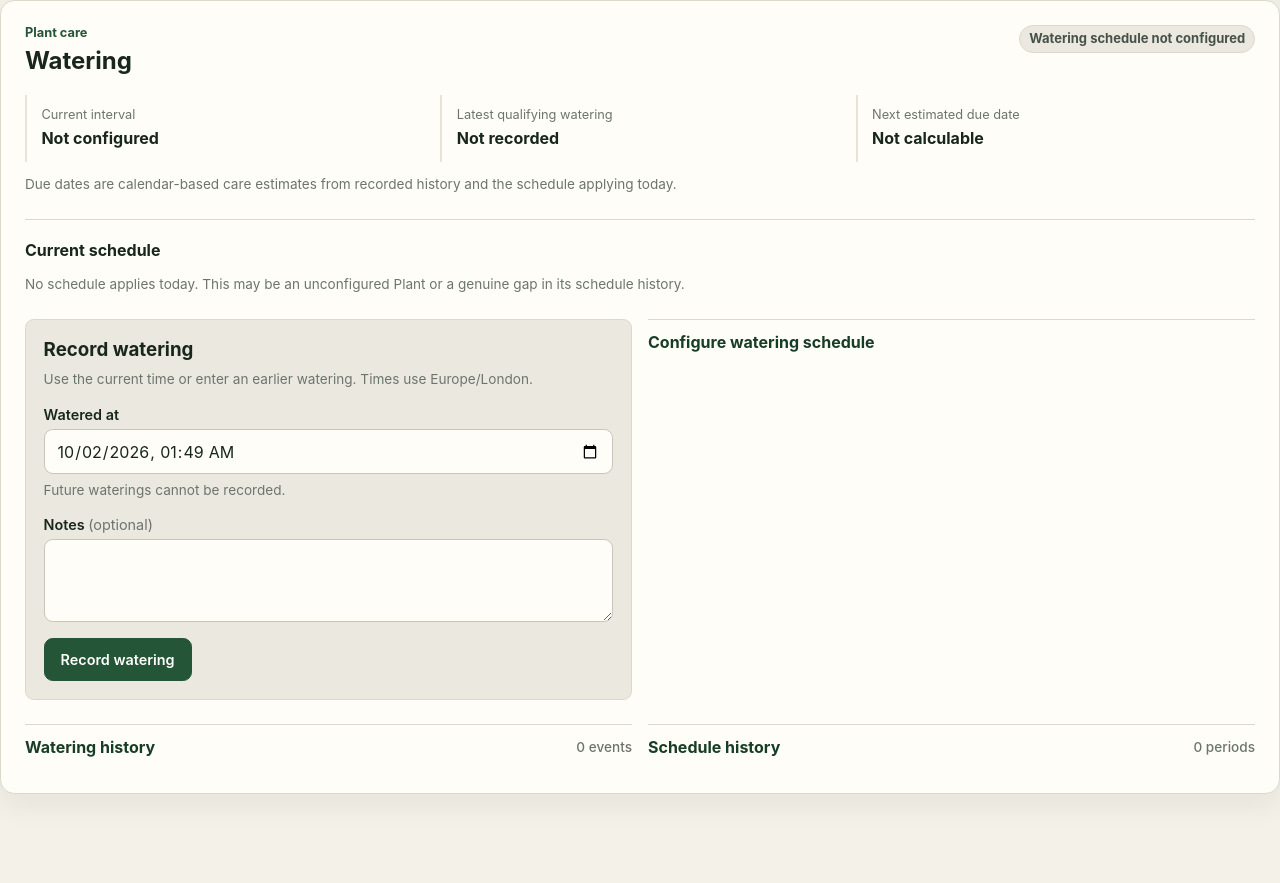
Scenario: lifecycle GROWING archived=null controls=true
Check: the button "Record watering" is shown, box [44, 638, 192, 681]
Click the heading "Configure watering schedule" at point(761, 342), box [648, 332, 875, 352]
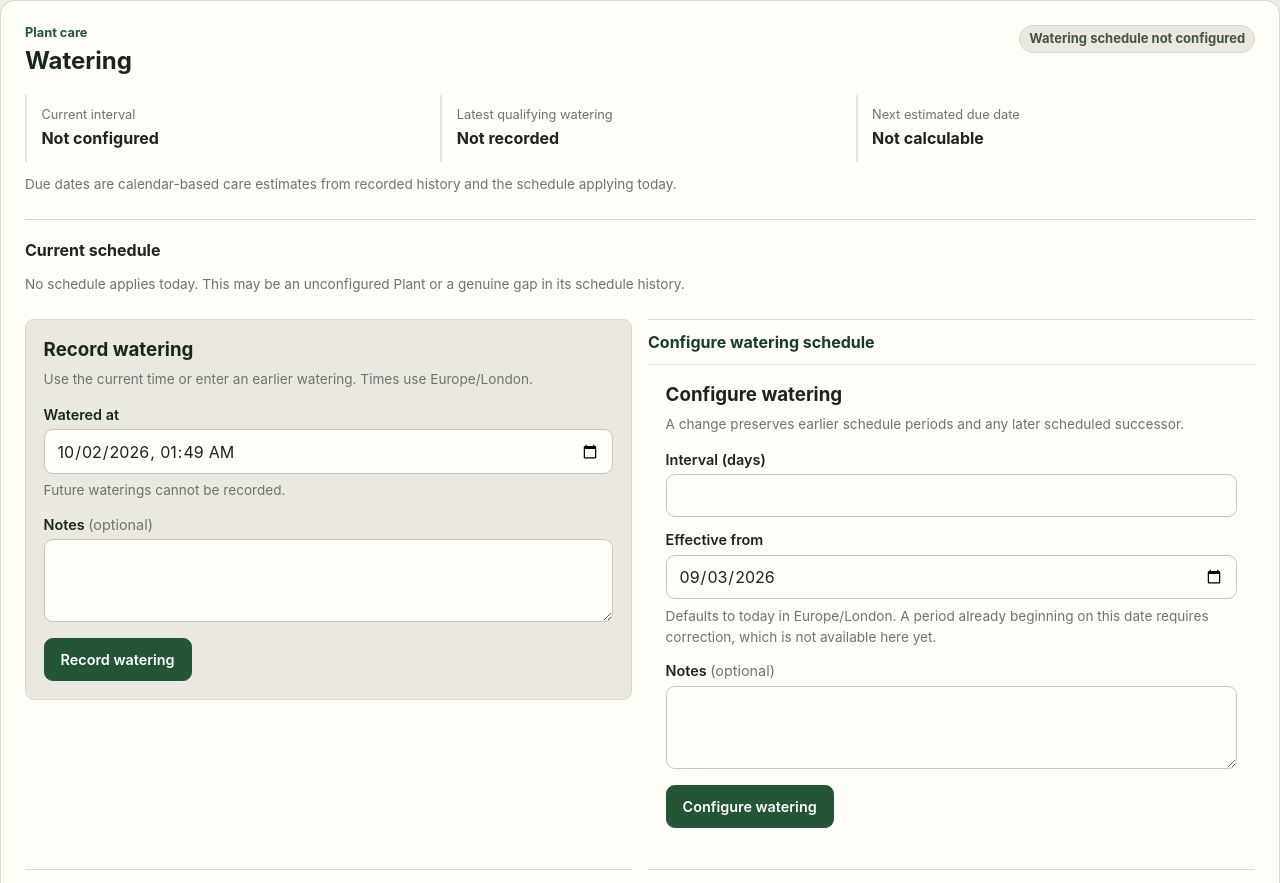
Check: the button "Configure watering" is shown, box [666, 785, 834, 828]
